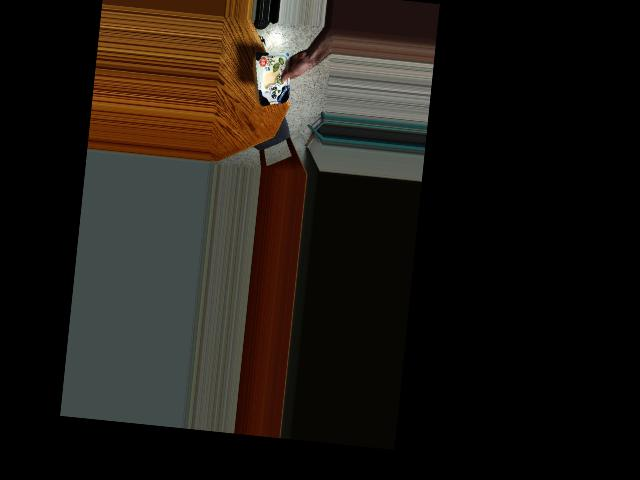cheese: (249, 50, 295, 108)
